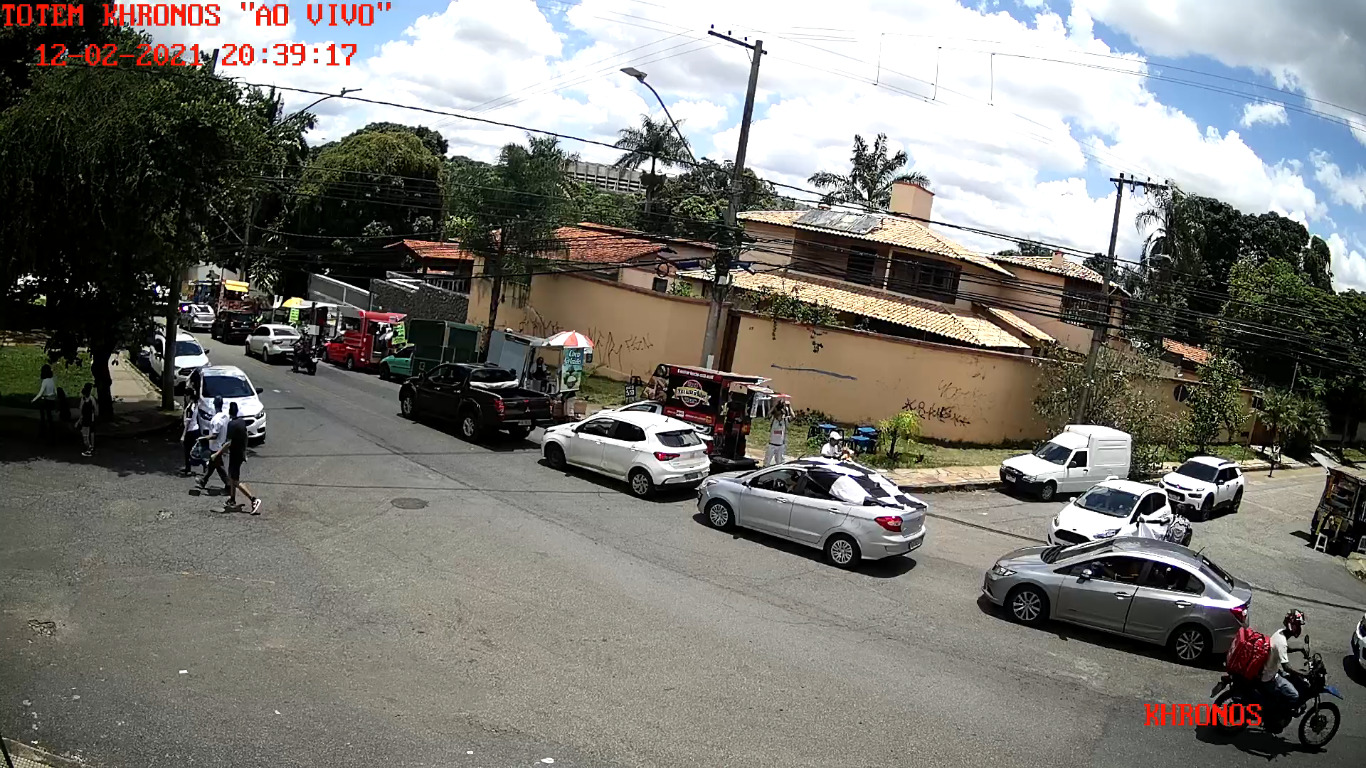car: (982, 536, 1254, 666), (694, 456, 928, 569), (541, 408, 711, 499)
